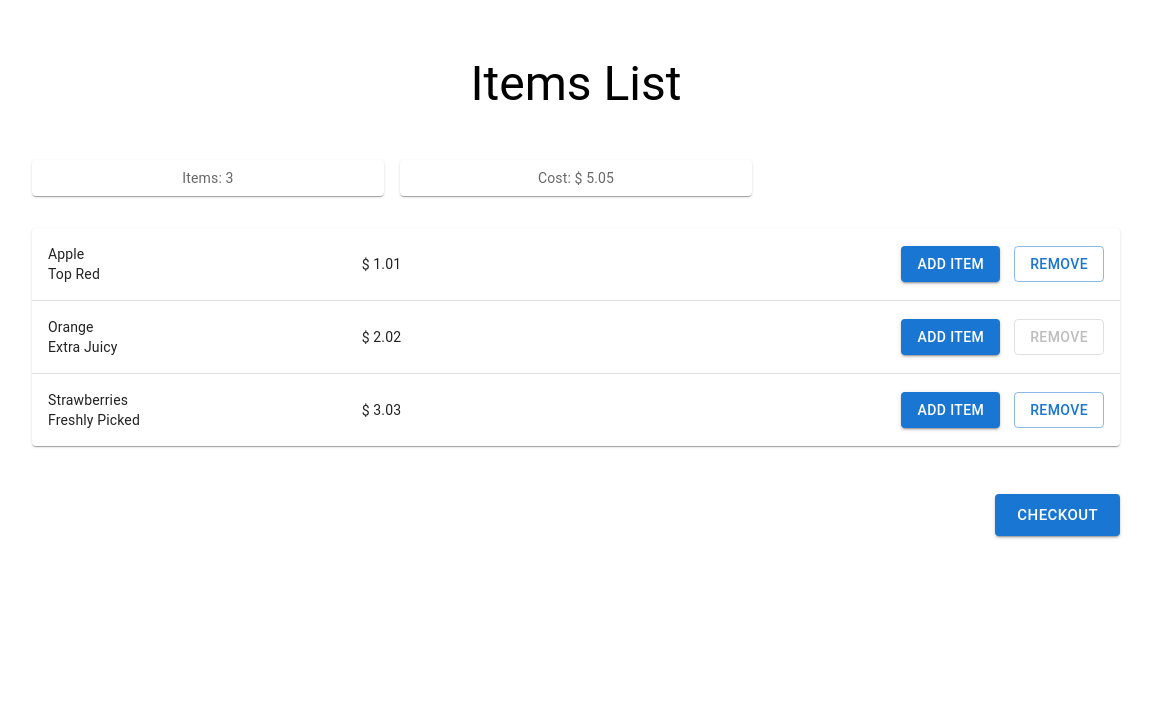
Test case: App › should render items list page          THEN go to checkout page         ThEN go to items list page         WHEN user clicks checkout THEN clicks the back button
This screenshot has width=1152, height=720.
Click the button "Checkout" at {"x": 1058, "y": 515}, box [995, 494, 1120, 536]
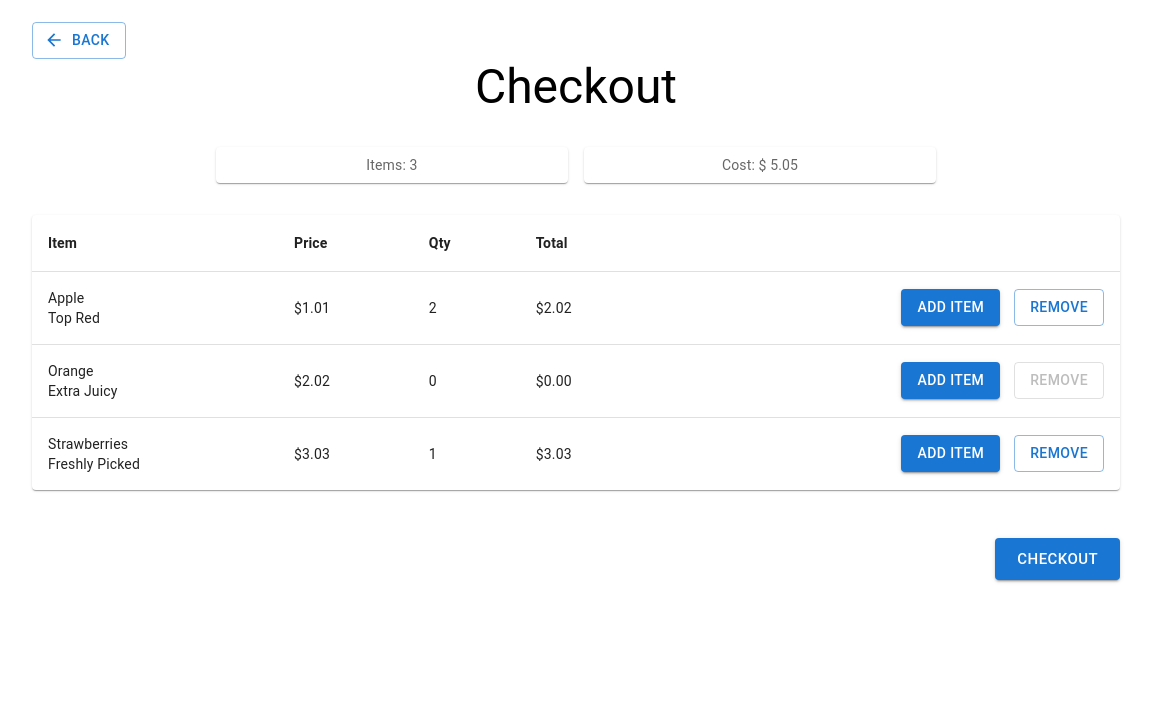
expect the element with test id "checkout-page" is shown: met
Click the button "Back" at {"x": 79, "y": 40}, box [32, 22, 126, 58]
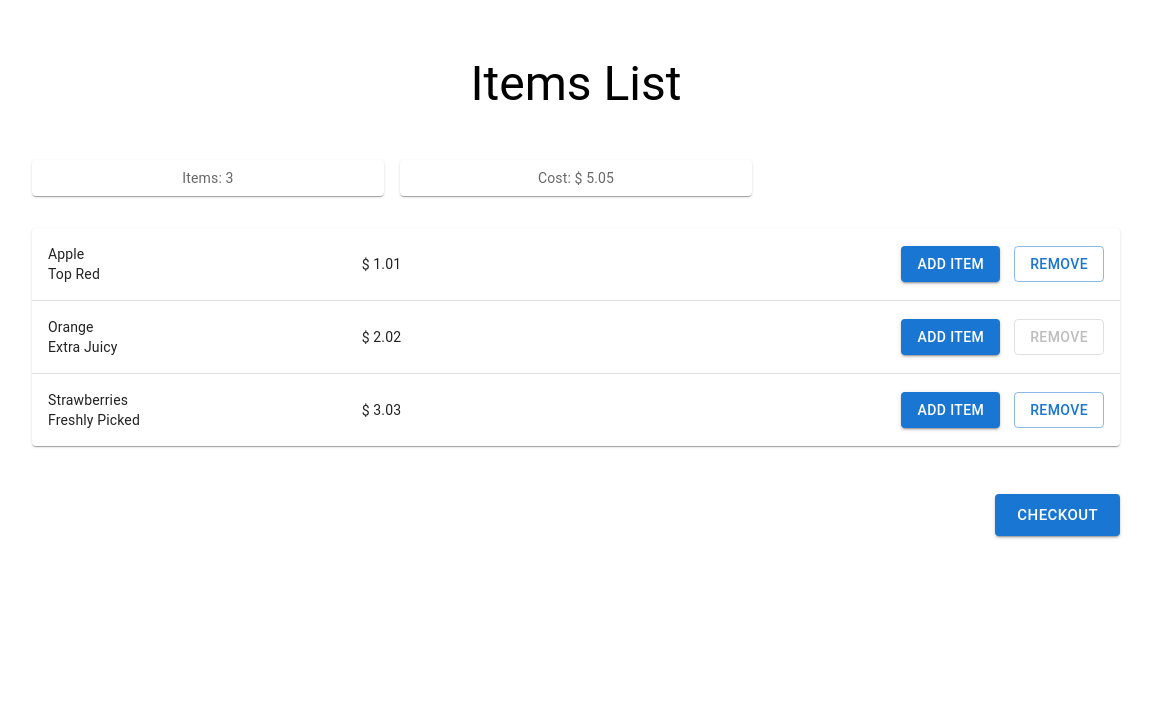
expect the heading "Items List" is shown: met, box [470, 55, 682, 112]
